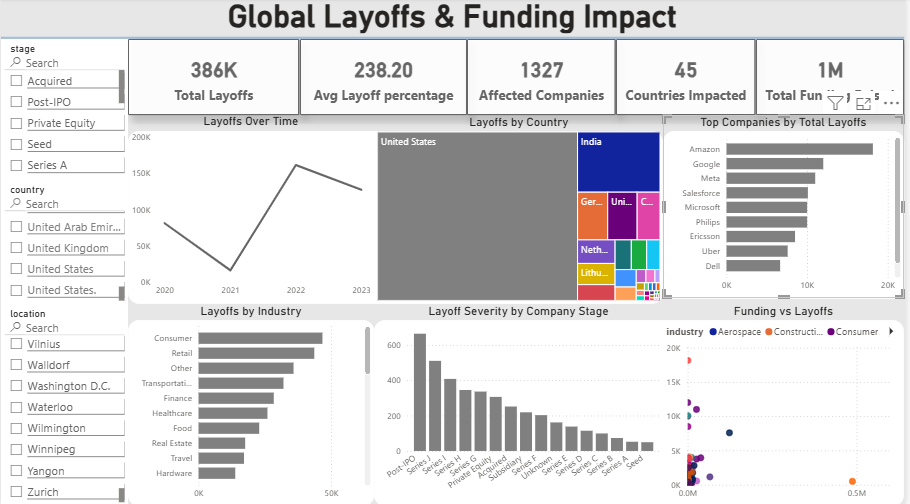

The page's visual inventory and layout, read from the dashboard file:
{"tool":"powerbi","page":{"name":"Page 1","canvas":[1280,720],"ordinal":0},"visuals":[{"type":"shape","box":[180,188.5,758.3,245.2],"z":0},{"type":"shape","box":[938.3,188.5,341.6,238.1],"z":1000},{"type":"shape","box":[180,456.4,348.7,263.6],"z":2000},{"type":"shape","box":[528.7,456.4,751.2,263.6],"z":3000},{"type":"card","fields":{"Values":["Sum(layoffs (2).total_laid_off)"]},"box":[180,57.6,243.4,108],"z":4000},{"type":"card","fields":{"Values":["Avg(layoffs (2).percentage_laid_off)"]},"box":[423.8,58.1,236.7,107.7],"z":5000},{"type":"card","fields":{"Values":["Count(layoffs (2).company)"]},"box":[660.5,58.1,211.2,107.7],"z":6000},{"type":"card","fields":{"Values":["Count(layoffs (2).country)"]},"box":[871.7,58.1,198.4,107.7],"z":7000},{"type":"card","fields":{"Values":["Sum(layoffs (2).funds_raised_millions)"]},"box":[1069.9,57.6,210.2,108],"z":8000},{"type":"lineChart","title":"Layoffs Over Time","fields":{"Category":["layoffs (2).date.Variation.Date Hierarchy.Year","layoffs (2).date.Variation.Date Hierarchy.Quarter","layoffs (2).date.Variation.Date Hierarchy.Month","layoffs (2).date.Variation.Date Hierarchy.Day"],"Y":["Sum(layoffs (2).total_laid_off)"]},"box":[180,164.4,348.7,267.9],"z":9000},{"type":"barChart","title":"Layoffs by Industry","fields":{"Category":["layoffs (2).industry"],"Y":["Sum(layoffs (2).total_laid_off)"]},"box":[180,433.7,348.7,286.3],"z":10000},{"type":"treemap","title":"Layoffs by Country","fields":{"Values":["Sum(layoffs (2).funds_raised_millions)"],"Group":["layoffs (2).country"]},"box":[528.5,165.6,410.4,267.8],"z":11000},{"type":"barChart","title":"Top Companies by Total Layoffs","fields":{"Category":["layoffs (2).company"],"Y":["Sum(layoffs (2).total_laid_off)"]},"box":[938.3,165.8,341.6,259.4],"z":12000},{"type":"columnChart","title":"Layoff Severity by Company Stage","fields":{"Category":["layoffs (2).stage"],"Y":["Avg(layoffs (2).percentage_laid_off)"]},"box":[528.7,433.7,409.6,286.3],"z":13000},{"type":"scatterChart","title":"Funding vs Layoffs","fields":{"Y":["Sum(layoffs (2).total_laid_off)"],"X":["layoffs (2).funds_raised_millions"],"Series":["layoffs (2).industry"],"Category":["layoffs (2).company"]},"box":[938.9,433.4,341.3,286.6],"z":14000},{"type":"shape","title":"Global Layoffs & Funding Impact ","box":[0,0,1280.2,57.6],"z":15000},{"type":"slicer","fields":{"Values":["layoffs (2).stage"]},"box":[0,57.6,180,200.2],"z":16000},{"type":"slicer","fields":{"Values":["layoffs (2).country"]},"box":[0,258,180,176],"z":17000},{"type":"slicer","fields":{"Values":["layoffs (2).location"]},"box":[0,434,180,286],"z":18000}]}

Visuals, with their boxes on the page's 1280x720 design canvas (x1, y1, x2, y2). These are canvas units, not pixel positions in the 910x504 screenshot, which may show the page scaled, cropped or inside an application window:
shape: BBox(180, 188, 938, 434)
shape: BBox(938, 188, 1280, 427)
shape: BBox(180, 456, 529, 720)
shape: BBox(529, 456, 1280, 720)
card - Sum(layoffs (2).total_laid_off): BBox(180, 58, 423, 166)
card - Avg(layoffs (2).percentage_laid_off): BBox(424, 58, 660, 166)
card - Count(layoffs (2).company): BBox(660, 58, 872, 166)
card - Count(layoffs (2).country): BBox(872, 58, 1070, 166)
card - Sum(layoffs (2).funds_raised_millions): BBox(1070, 58, 1280, 166)
"Layoffs Over Time" lineChart: BBox(180, 164, 529, 432)
"Layoffs by Industry" barChart: BBox(180, 434, 529, 720)
"Layoffs by Country" treemap: BBox(528, 166, 939, 433)
"Top Companies by Total Layoffs" barChart: BBox(938, 166, 1280, 425)
"Layoff Severity by Company Stage" columnChart: BBox(529, 434, 938, 720)
"Funding vs Layoffs" scatterChart: BBox(939, 433, 1280, 720)
"Global Layoffs & Funding Impact " shape: BBox(0, 0, 1280, 58)
slicer - layoffs (2).stage: BBox(0, 58, 180, 258)
slicer - layoffs (2).country: BBox(0, 258, 180, 434)
slicer - layoffs (2).location: BBox(0, 434, 180, 720)
